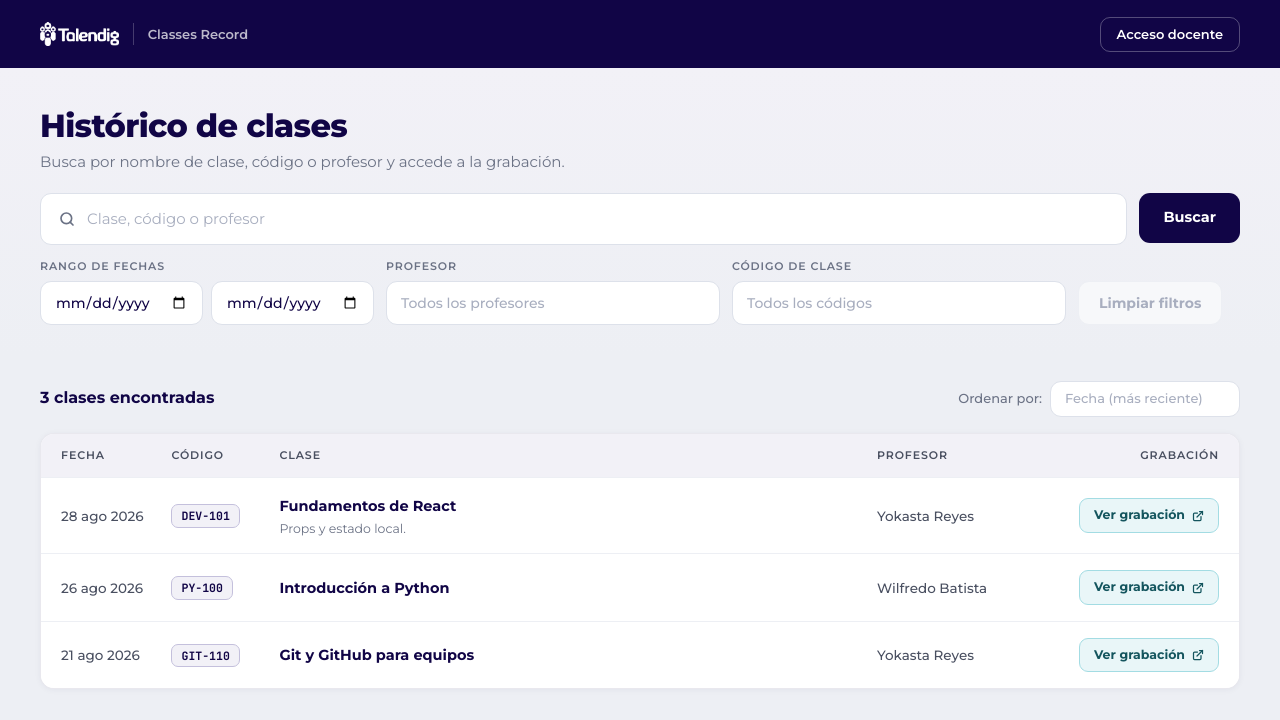
Test: PublicSearchPage › shows a chip for an applied filter and clears it when dismissed
Expected: the heading "3 clases encontradas" is shown, 40,388 -> 214,409
Select "DEV-101" in the dropdown named "Código de clase" at (899, 303), box 732,281 -> 1066,325
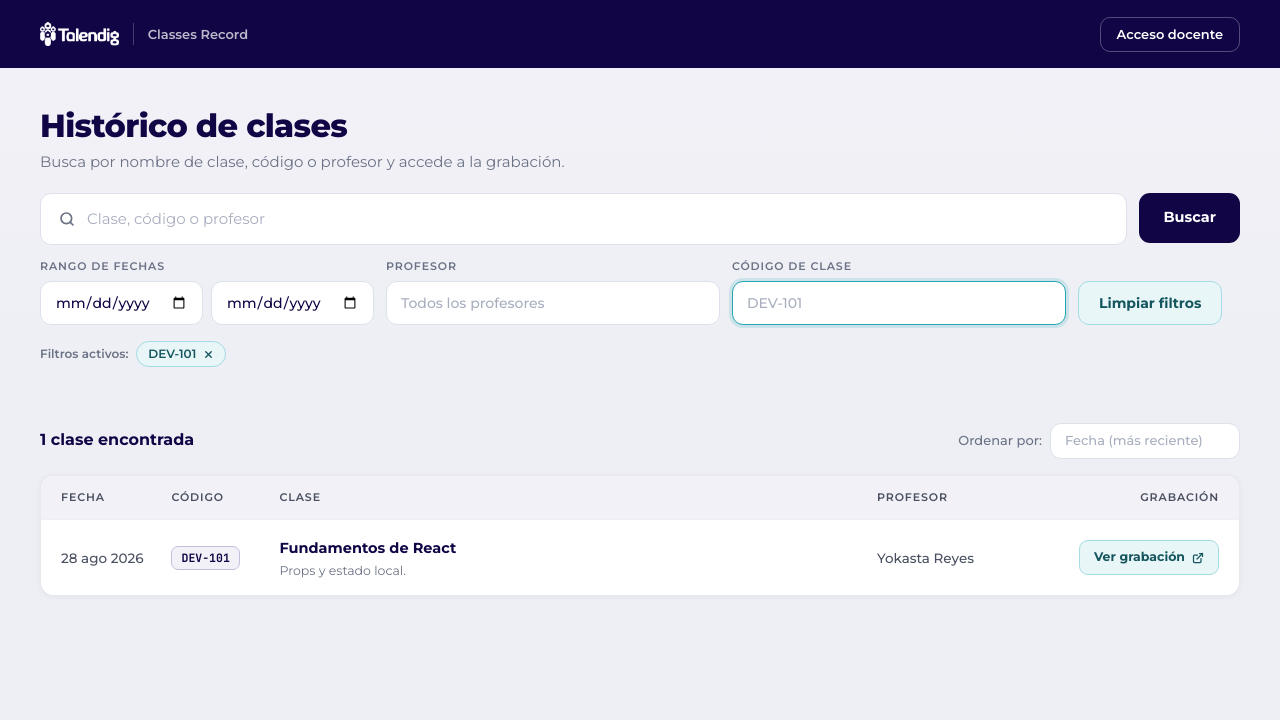
Result: the heading "1 clase encontrada" is shown at 40,430 -> 194,451
Click the button with aria-label "Quitar filtro DEV-101" at (181, 354), box 136,341 -> 226,367
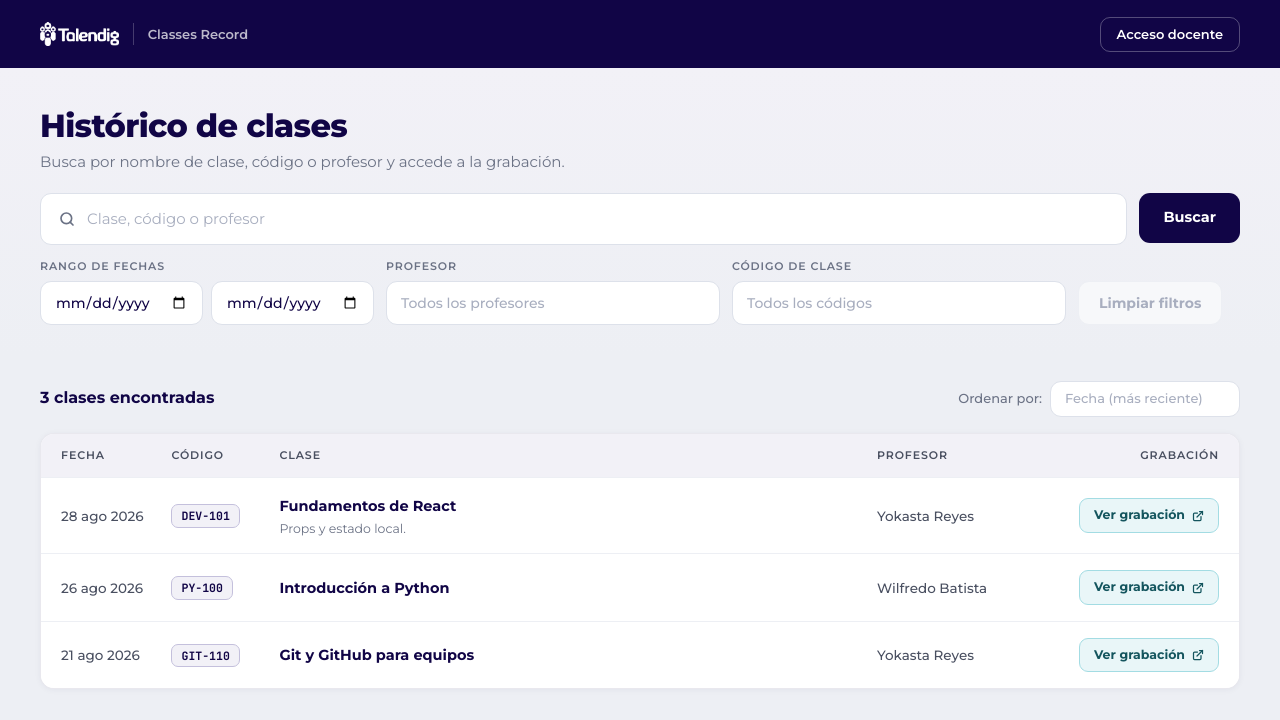
Result: the heading "3 clases encontradas" is shown at 40,388 -> 214,409
